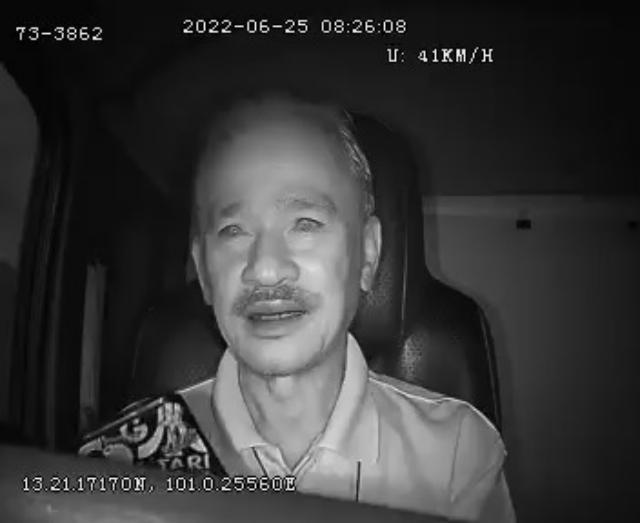PhoneUse: (77, 390, 227, 472)
SafeDriving: (208, 205, 258, 249), (283, 201, 334, 242)
